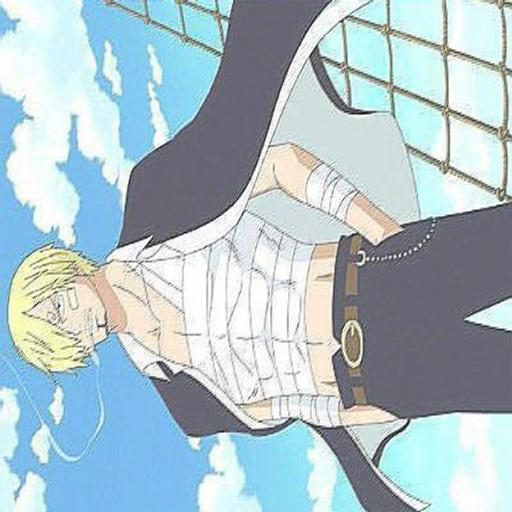sanji: (0, 2, 509, 507)
